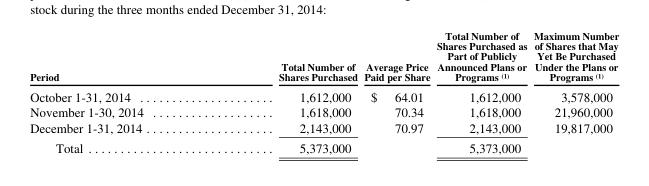table: (29, 28, 618, 155)
table column: (29, 28, 210, 155), (210, 28, 360, 155), (432, 28, 529, 155), (529, 28, 618, 155), (360, 28, 432, 155)
table column header: (29, 28, 618, 85)
table row: (29, 28, 618, 85), (29, 85, 618, 103), (29, 119, 618, 137), (29, 137, 618, 155), (29, 103, 618, 119)
